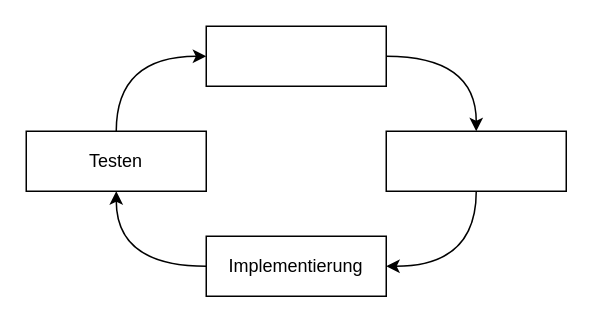
This 593x323 diagram has some shape labels left out. The shapes that lost their labels are listed below. From the top down, each one's centre as x and y in pixels, then its label:
At point (295, 55): "Anforderungs- ermittlung/-analyse".
At point (475, 160): "Entwurf".
